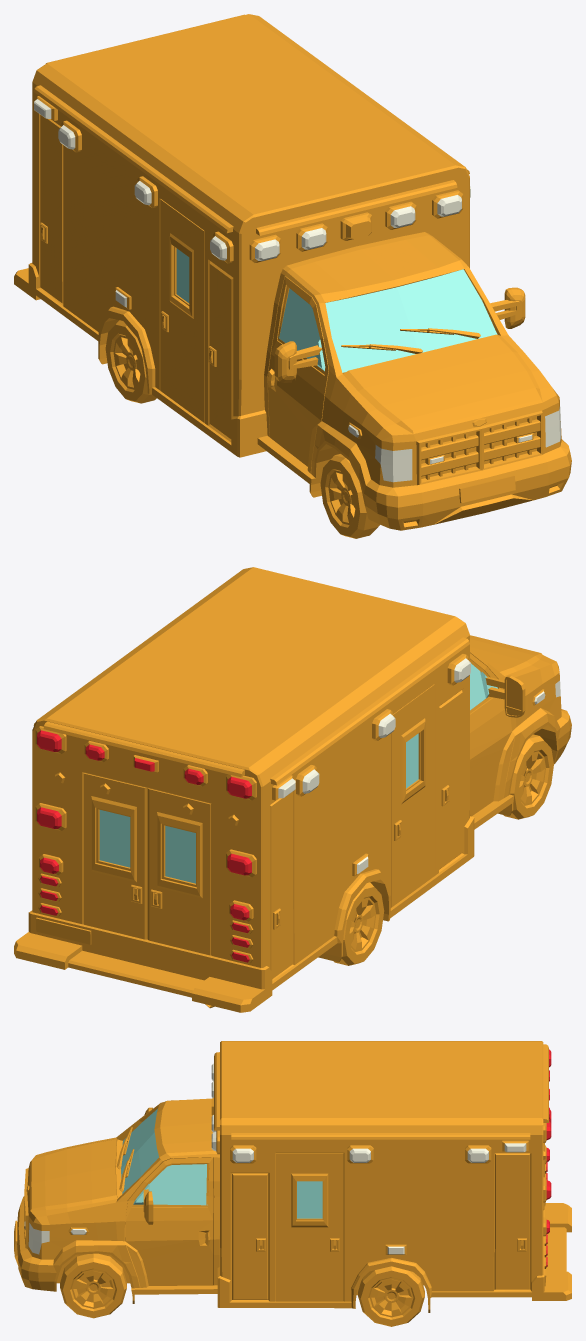
Rendered from SM_Car_Ambulance_Modern.fbx.
3 renders of one model, top to bottom at view 1: azimuth 30°, elevation 25°; view 2: azimuth 150°, elevation 25°; view 3: azimuth 270°, elevation 25°, orthographic. The views are drawn at different scales.
Visible parts, largest first — view 1: ambulance-modern-base, ambulance-modern-door-side-right, ambulance-modern-door-rfr, ambulance-modern-wheel-rfr, ambulance-modern-wheel-rba, ambulance-modern-door-lfr; view 2: ambulance-modern-base, ambulance-modern-door-lba, ambulance-modern-door-back-right, ambulance-modern-door-side-right, ambulance-modern-door-rfr, ambulance-modern-wheel-rfr, ambulance-modern-wheel-rba; view 3: ambulance-modern-base, ambulance-modern-door-lfr, ambulance-modern-door-side-left, ambulance-modern-wheel-lfr, ambulance-modern-wheel-lba.
Boxes of the visible parts, x1,y1,x2,y2 form: ambulance-modern-base: (14, 14, 571, 530); ambulance-modern-door-side-right: (160, 199, 204, 422); ambulance-modern-door-rfr: (267, 276, 328, 473); ambulance-modern-wheel-rfr: (320, 454, 379, 538); ambulance-modern-wheel-rba: (105, 320, 156, 403); ambulance-modern-door-lfr: (490, 287, 525, 328); ambulance-modern-base: (14, 567, 571, 1012); ambulance-modern-door-lba: (83, 773, 147, 939); ambulance-modern-door-back-right: (147, 788, 210, 955); ambulance-modern-door-side-right: (391, 684, 434, 907); ambulance-modern-door-rfr: (470, 653, 525, 816); ambulance-modern-wheel-rfr: (503, 734, 553, 819); ambulance-modern-wheel-rba: (333, 882, 384, 965); ambulance-modern-base: (14, 1041, 571, 1312); ambulance-modern-door-lfr: (125, 1157, 213, 1287); ambulance-modern-door-side-left: (276, 1153, 343, 1301); ambulance-modern-wheel-lfr: (60, 1253, 126, 1318); ambulance-modern-wheel-lba: (358, 1266, 424, 1326).
Bounding box in the file's own units: 2.61 × 2.62 × 6.49.
